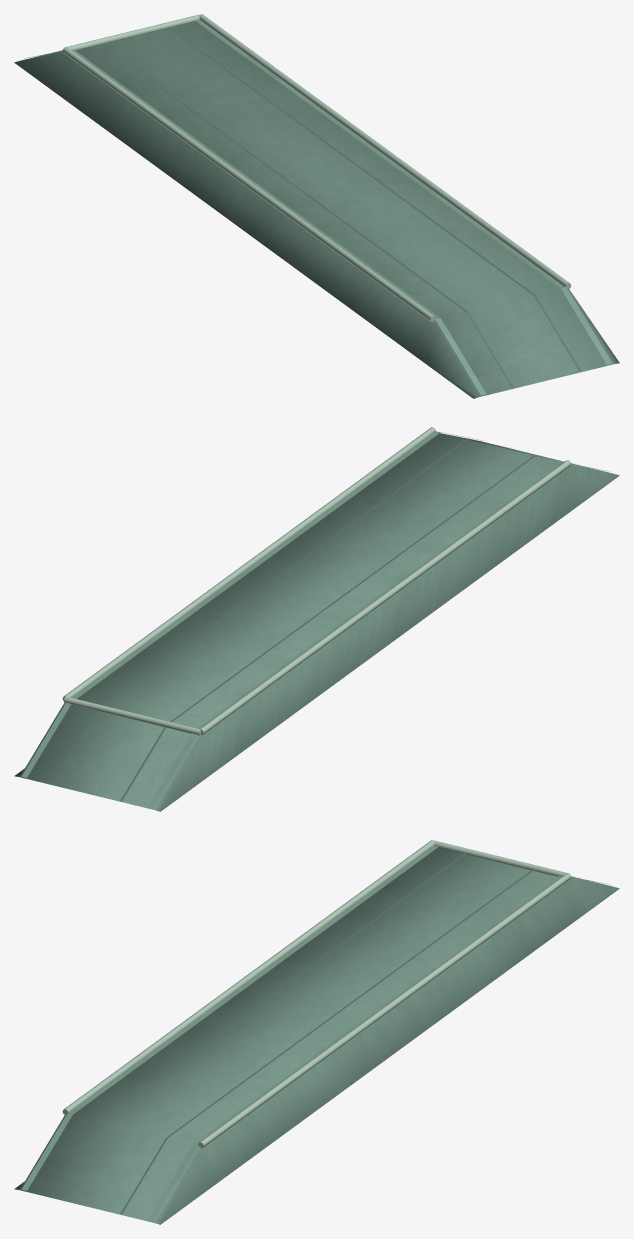
Rendered from granite-ledge.glb.
The picture shows the model from 3 angles, top to bottom: view 1: azimuth 30°, elevation 25°; view 2: azimuth 150°, elevation 25°; view 3: azimuth 330°, elevation 25°; orthographic projection.
Visible parts, largest first — view 1: granite-ledge; view 2: granite-ledge; view 3: granite-ledge.
Part boxes in pixels (box(x1,y1,x2,y2)): granite-ledge: box(14, 14, 619, 398); granite-ledge: box(14, 427, 619, 811); granite-ledge: box(14, 840, 619, 1224).
Bounding box in the file's own units: 1.84 × 0.573 × 10.
Materials: 2 (1 with a texture image).
